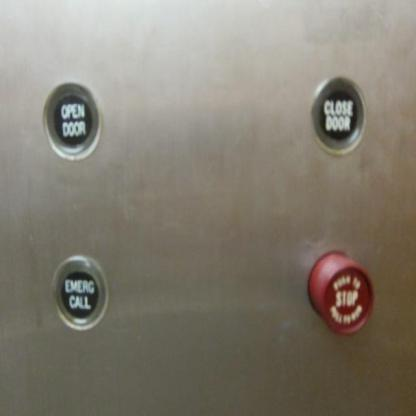text_close: (308, 73, 368, 157)
text_emerg: (50, 252, 108, 333)
text_open hold: (40, 77, 103, 163)
text_stop: (307, 249, 375, 337)
